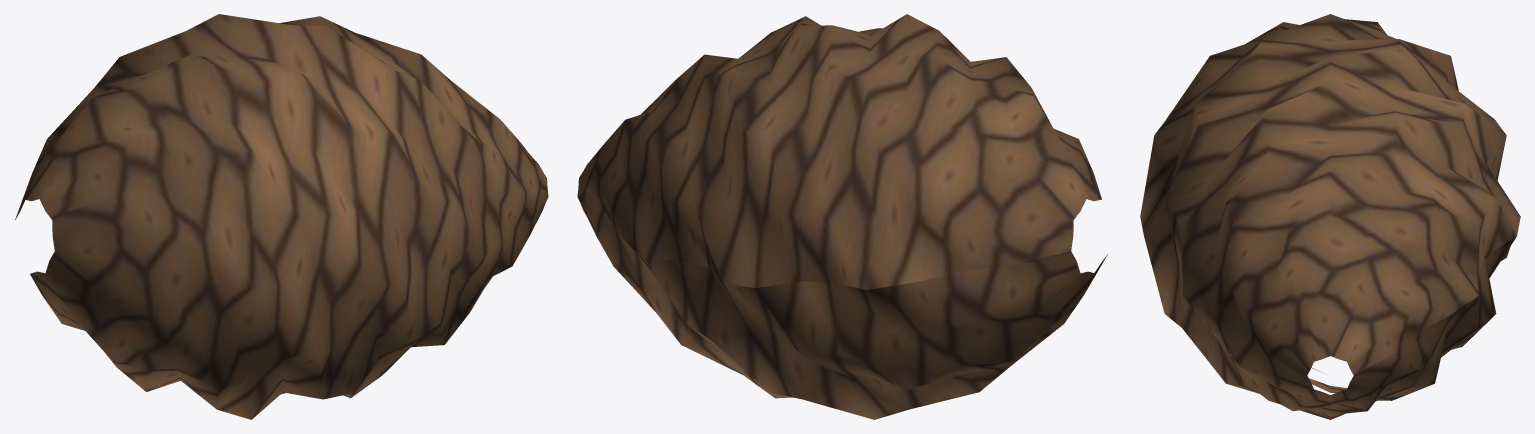
File: pinecone.glb
3 views of the same model, side by side, from view 1: azimuth 30°, elevation 25°; view 2: azimuth 150°, elevation 25°; view 3: azimuth 270°, elevation 25° (orthographic). The views are drawn at different scales.
Parts seen in each view (by area): view 1: pinecone; view 2: pinecone; view 3: pinecone.
Boxes of the visible parts, x1,y1,x2,y2 form: pinecone: [15, 14, 548, 419]; pinecone: [577, 14, 1107, 419]; pinecone: [1140, 14, 1520, 419].
Size of the model in its own units: 0.0955 by 0.0656 by 0.066.
Materials: 1 (1 with a texture image).
